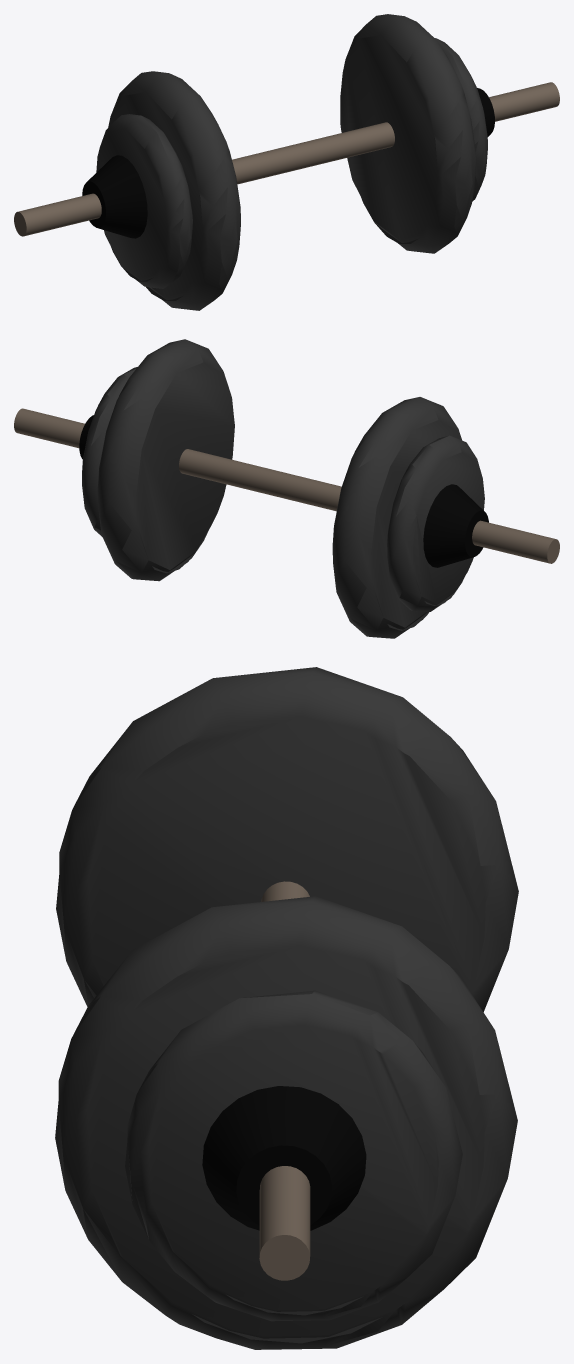
Rendered from fitness.FBX.
3 renders of one model, top to bottom at view 1: azimuth 30°, elevation 25°; view 2: azimuth 150°, elevation 25°; view 3: azimuth 270°, elevation 25°, orthographic. The views are drawn at different scales.
Parts seen in each view (by area): view 1: Object08; view 2: Object08; view 3: Object08.
Part boxes in pixels (box(x1,y1,x2,y2)): Object08: box(14, 14, 559, 310); Object08: box(14, 339, 559, 638); Object08: box(55, 667, 518, 1349).
Bounding box in the file's own units: 10.04 × 4.05 × 3.78.
